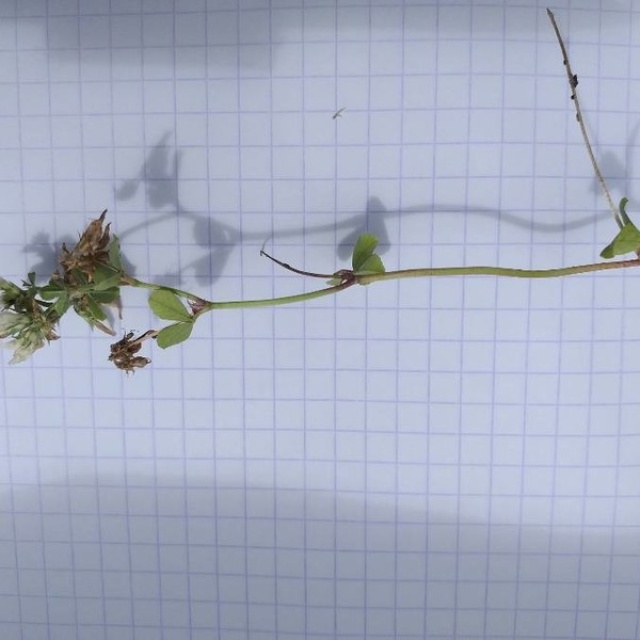obstacle: (32, 171, 637, 365)
